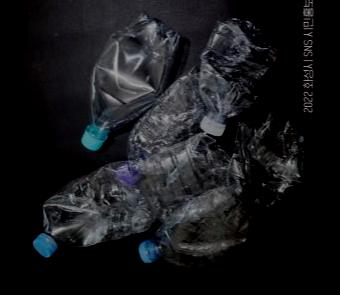bottle: (140, 107, 306, 266), (33, 132, 232, 256), (81, 11, 182, 150), (116, 64, 205, 186), (198, 19, 280, 138)
